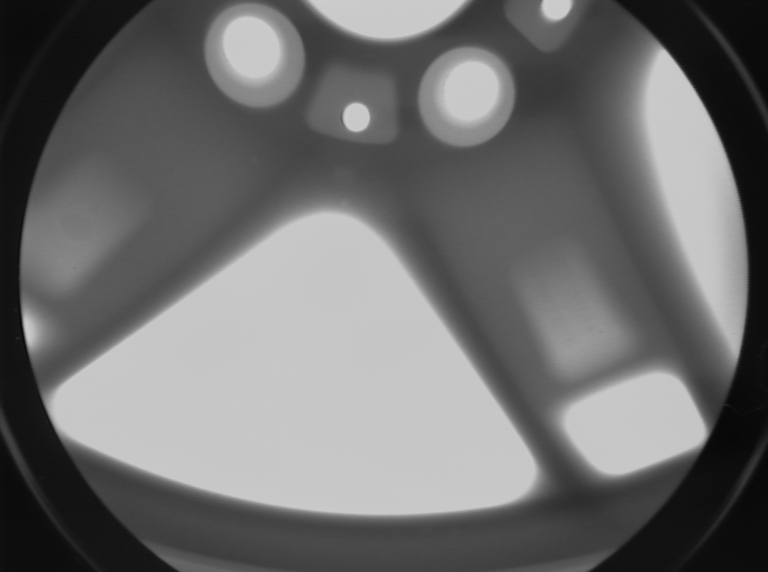defect: (242, 154, 266, 172)
